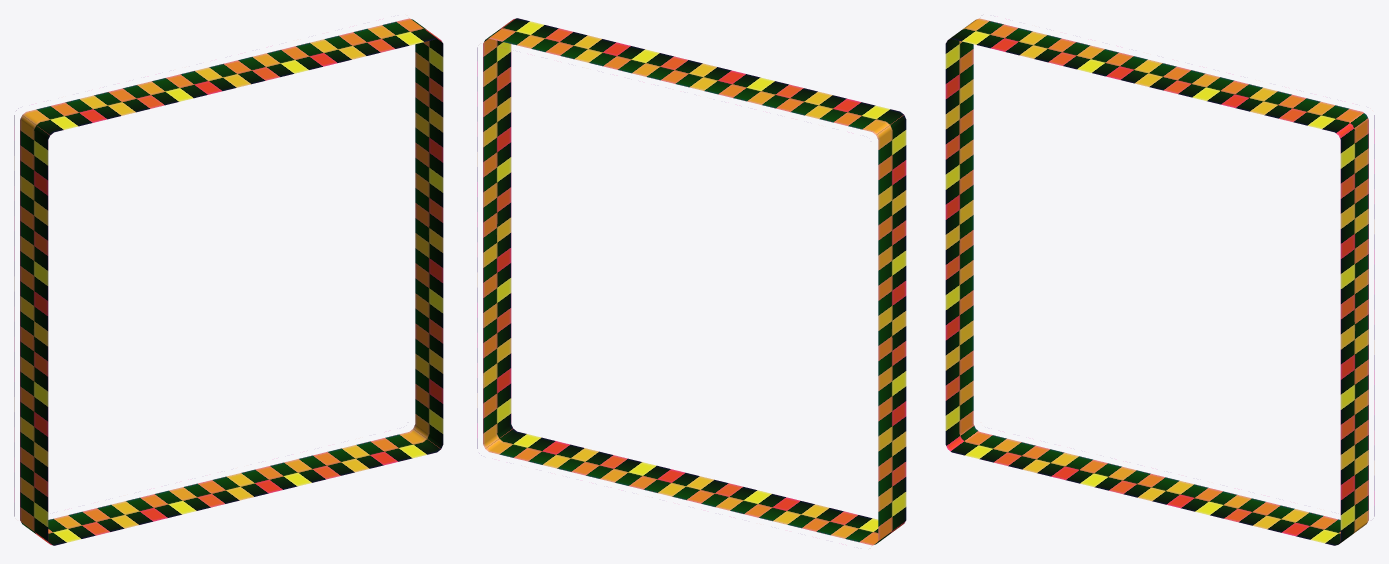
Rendered from hologram_goal_geoZ.fbx.
The picture shows the model from 3 angles, left to right: view 1: azimuth 30°, elevation 25°; view 2: azimuth 150°, elevation 25°; view 3: azimuth 330°, elevation 25°; orthographic projection.
Visible parts, largest first — view 1: Goal10; view 2: Goal10; view 3: Goal10.
Part boxes in pixels (x1,y1,x2,y2): Goal10: (14, 18, 443, 545); Goal10: (477, 18, 906, 545); Goal10: (945, 18, 1374, 545).
Size of the model in its own units: 4 by 4 by 0.696.
